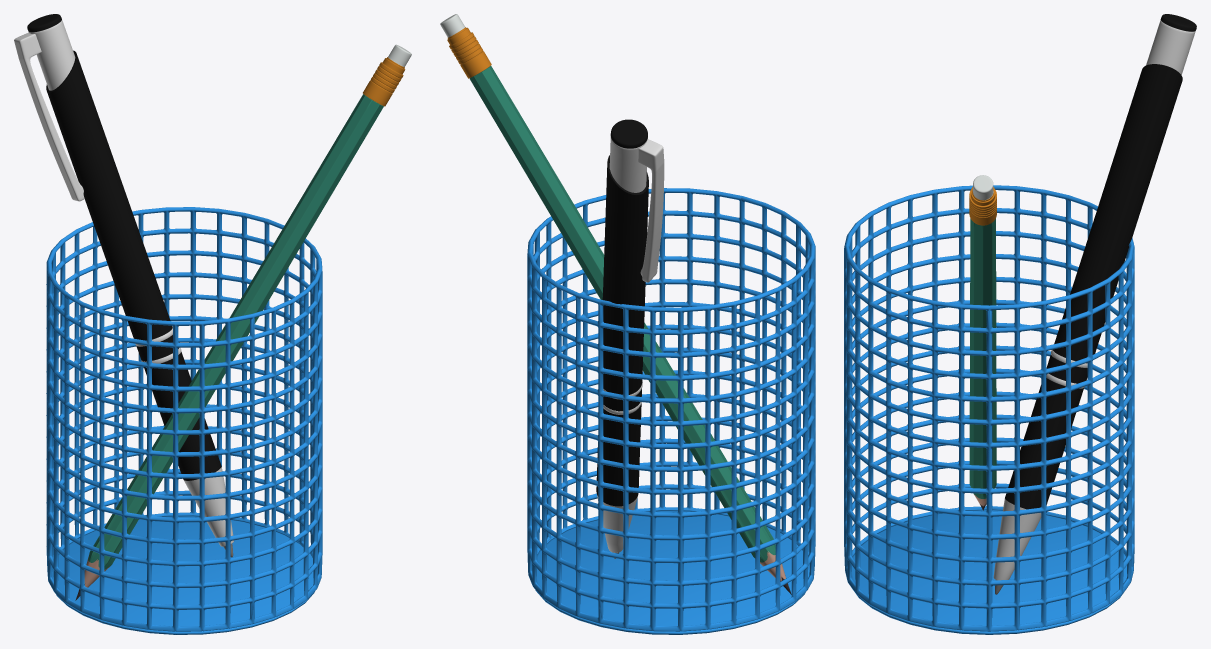
File: pencils.glb
3 renders of one model, left to right at view 1: azimuth 30°, elevation 25°; view 2: azimuth 150°, elevation 25°; view 3: azimuth 270°, elevation 25°, orthographic. The views are drawn at different scales.
Parts seen in each view (by area): view 1: Cylinder, Cylinder.001, Circle, Circle.004, Cube, Circle.002, Circle.001; view 2: Cylinder, Cylinder.001, Circle.004, Circle, Circle.002, Cube, Circle.001; view 3: Cylinder, Cylinder.001, Circle, Circle.004, Circle.002, Circle.001.
Part boxes in pixels (<box>): Cylinder: <box>46,207,322,631</box>; Cylinder.001: <box>52,516,314,634</box>; Circle: <box>46,50,221,480</box>; Circle.004: <box>75,44,411,600</box>; Cube: <box>14,32,84,201</box>; Circle.002: <box>27,14,75,90</box>; Circle.001: <box>184,467,233,557</box>; Cylinder: <box>527,188,815,631</box>; Cylinder.001: <box>535,511,809,634</box>; Circle.004: <box>440,14,791,594</box>; Circle: <box>596,155,648,506</box>; Circle.002: <box>609,119,647,192</box>; Cube: <box>638,139,664,282</box>; Circle.001: <box>597,495,637,558</box>; Cylinder: <box>844,185,1134,631</box>; Cylinder.001: <box>851,510,1127,634</box>; Circle: <box>1005,64,1182,509</box>; Circle.004: <box>969,175,996,510</box>; Circle.002: <box>1146,14,1196,74</box>; Circle.001: <box>993,498,1041,594</box>.
Bounding box in the file's own units: 3.02 × 4.3 × 2.56.
